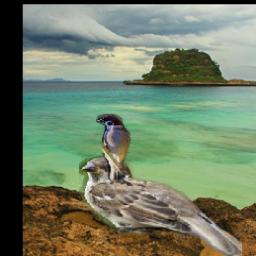Sparrow: (80, 156, 243, 256), (97, 114, 131, 182)
